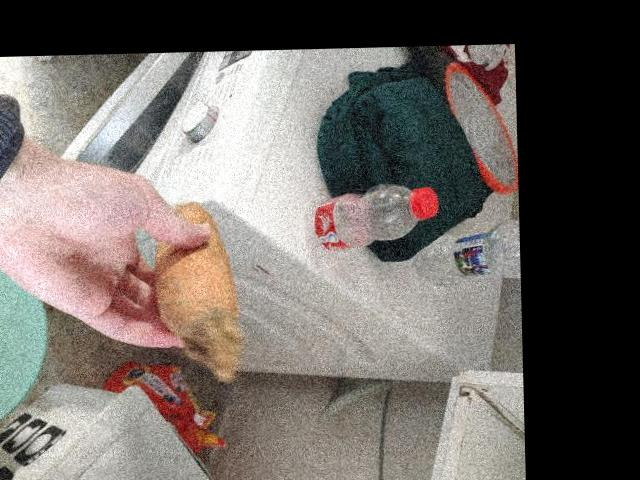sweet_potato: (160, 212, 240, 348)
